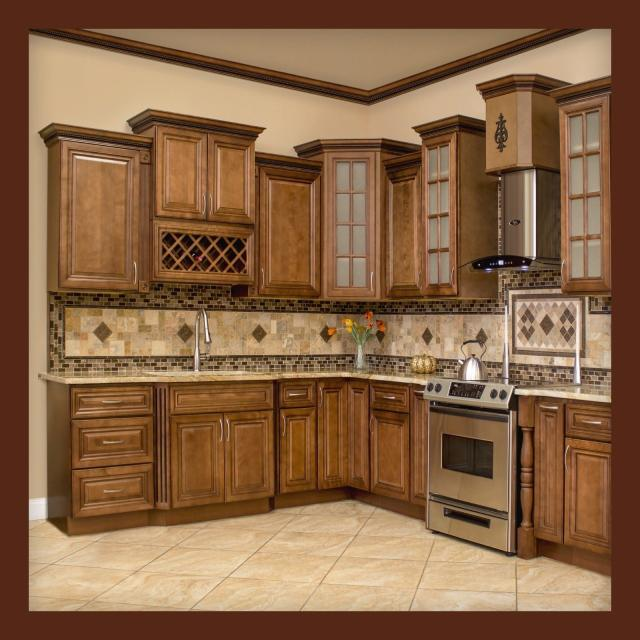Appliance_Oven: (423, 378, 522, 558)
Appliance_Sink: (144, 309, 251, 375)
Cabinet_Glass: (557, 83, 609, 279), (324, 152, 377, 298), (421, 133, 458, 296)
Cabinet_Raised_Panel: (71, 378, 424, 517), (54, 125, 322, 297), (534, 399, 613, 549), (384, 152, 422, 298)
